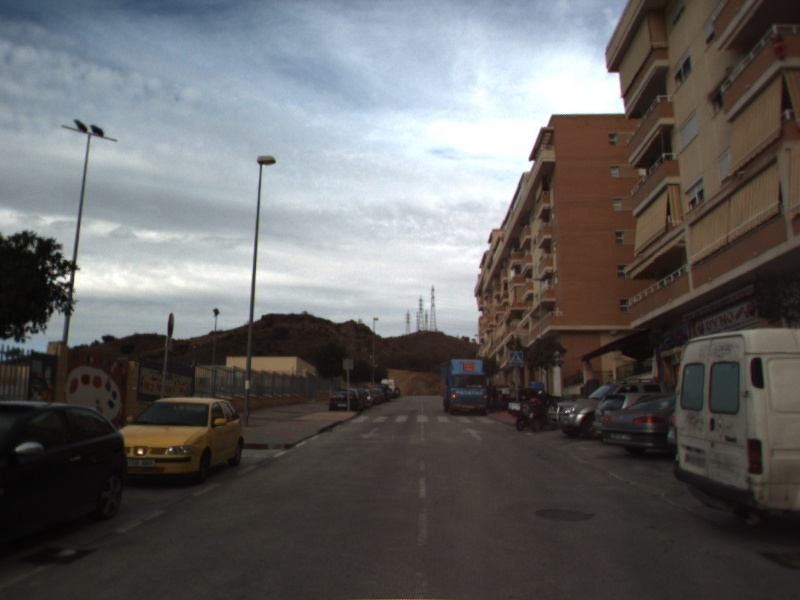STRAIGHT: (460, 425, 485, 442)
